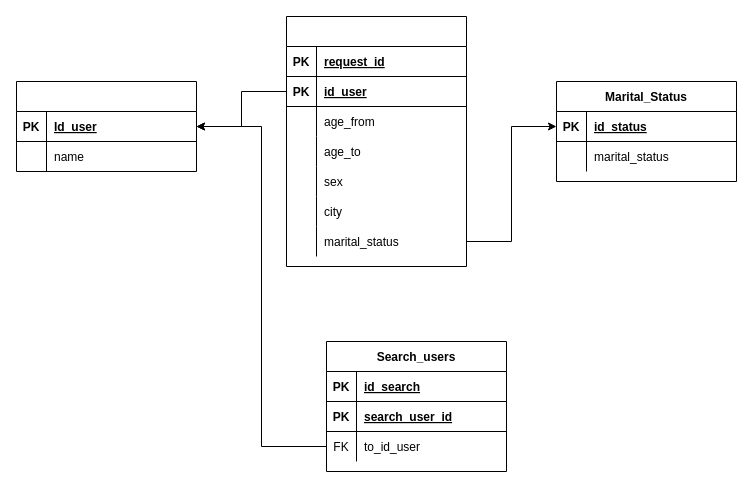
Some shapes in this 753 by 488 pixel diagram are drawn without their labels. The box of each missing label's shape, as (x1, y1, x2, y2) in pixels:
User_request: (286, 16, 466, 266)
User_table: (16, 80, 196, 172)
